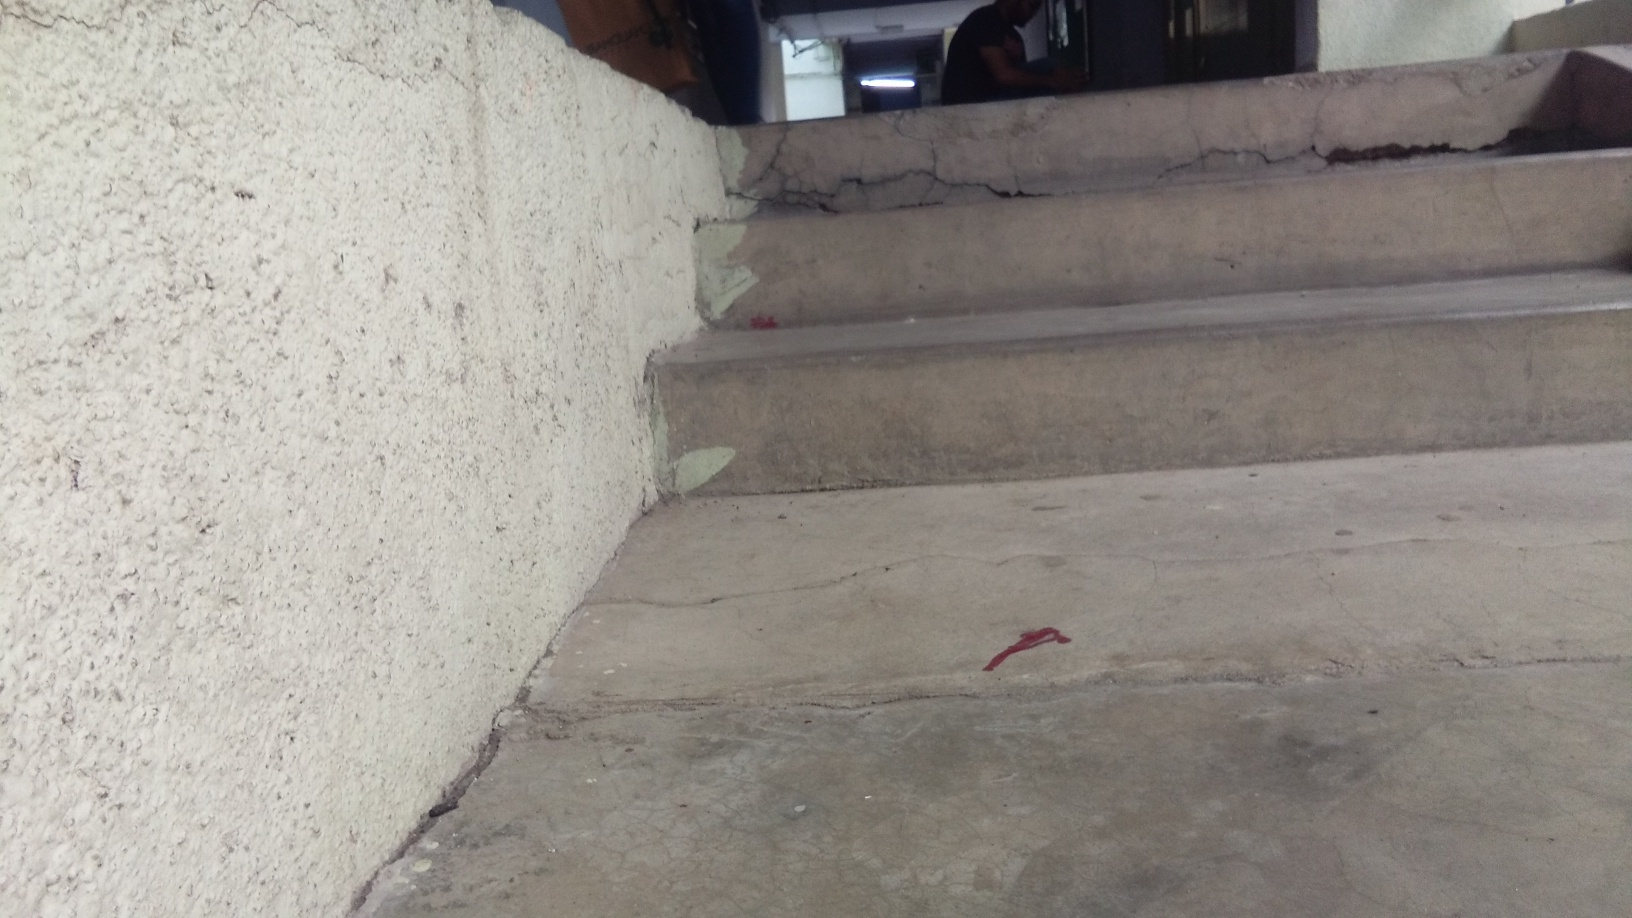stairs_up: (624, 82, 1632, 484)
